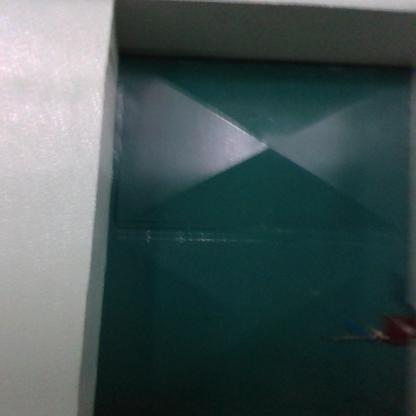closed: (78, 26, 416, 416)
